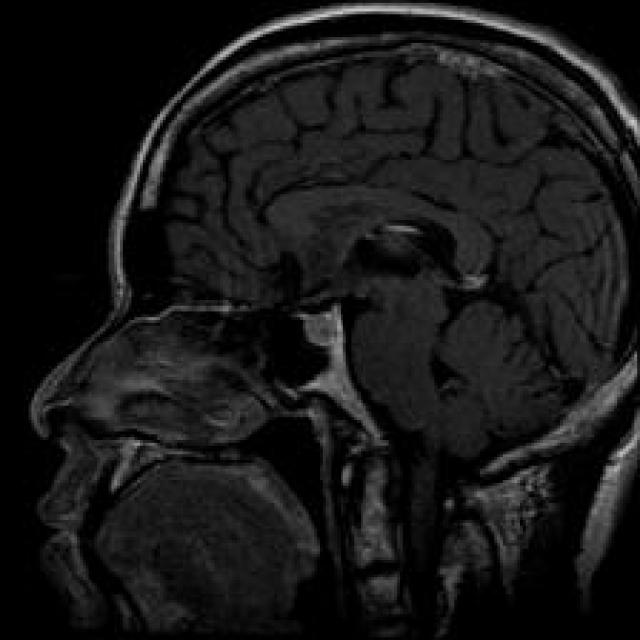pituitary_tumor: (283, 281, 359, 359)
